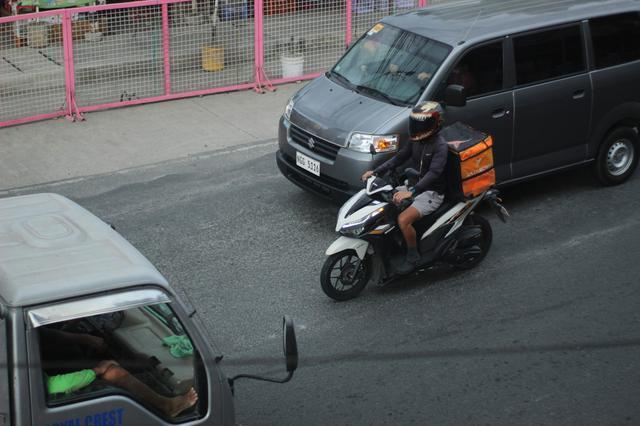helmet: (408, 101, 445, 146)
motorcycle: (319, 102, 504, 301)
